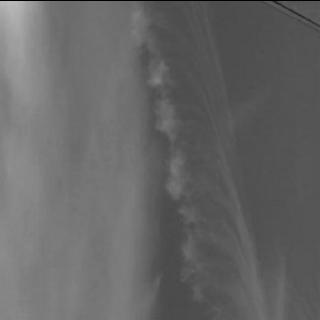Cirrocumulus: (1, 0, 264, 320)
